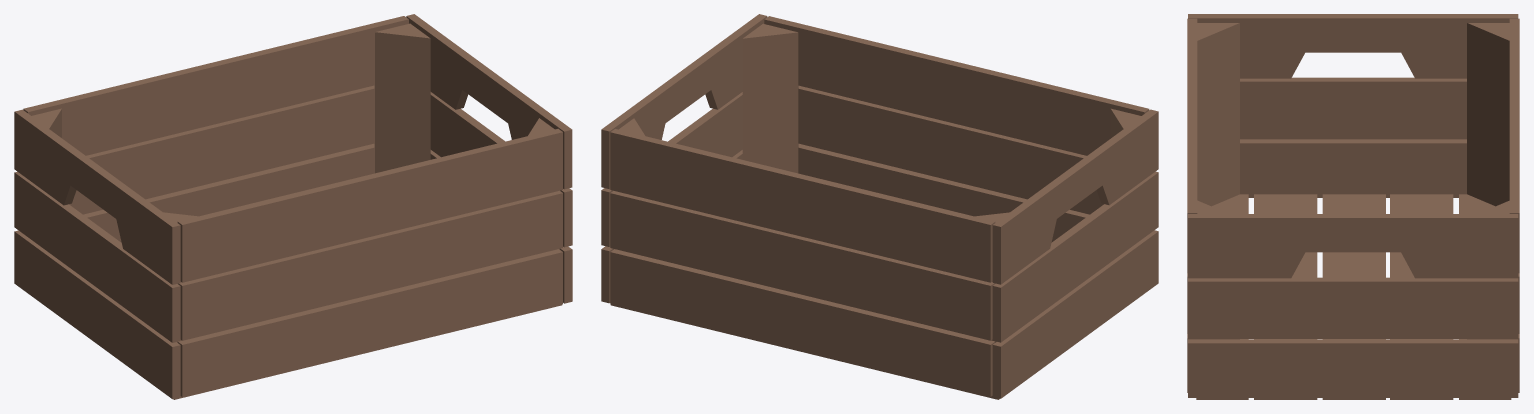
File: CrateUV2.fbx
3 renders of one model, left to right at view 1: azimuth 30°, elevation 25°; view 2: azimuth 150°, elevation 25°; view 3: azimuth 270°, elevation 25°, orthographic. The views are drawn at different scales.
Visible parts, largest first — view 1: Crate; view 2: Crate; view 3: Crate.
Part boxes in pixels (left/top/right/bottom): Crate: left=14, top=14, right=572, bottom=399; Crate: left=601, top=14, right=1158, bottom=399; Crate: left=1187, top=14, right=1519, bottom=399.
Size of the model in its own units: 1.95 by 1.34 by 0.8269.
